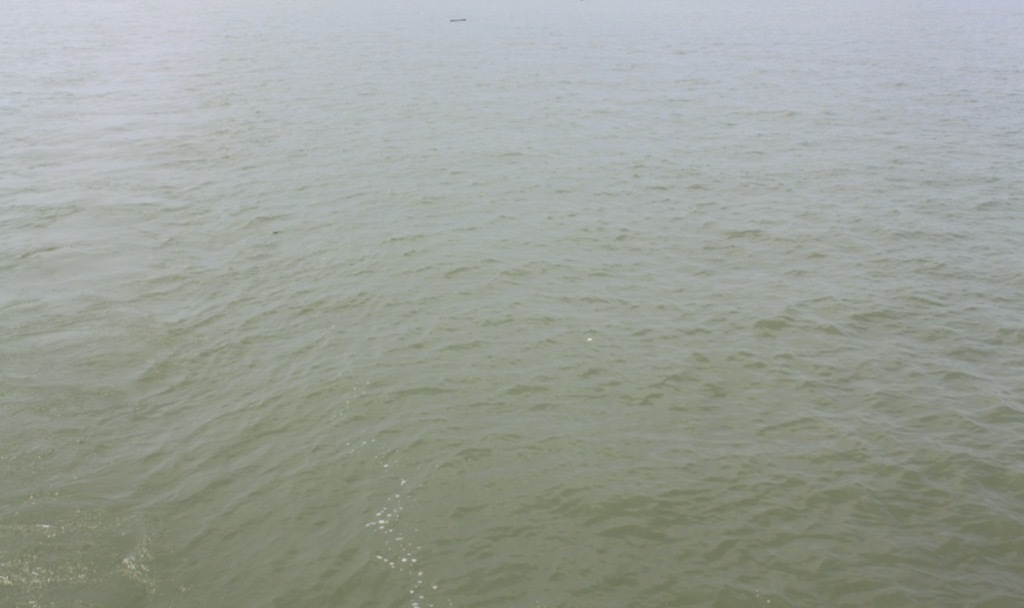organic: (445, 12, 471, 27)
plastic: (575, 325, 607, 355)
